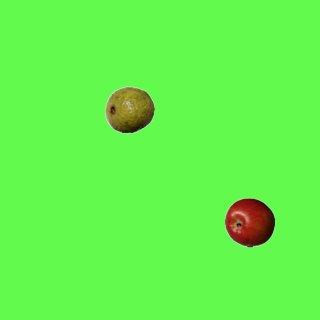Apple Braeburn: (224, 197, 274, 247)
Guava: (104, 84, 154, 134)
